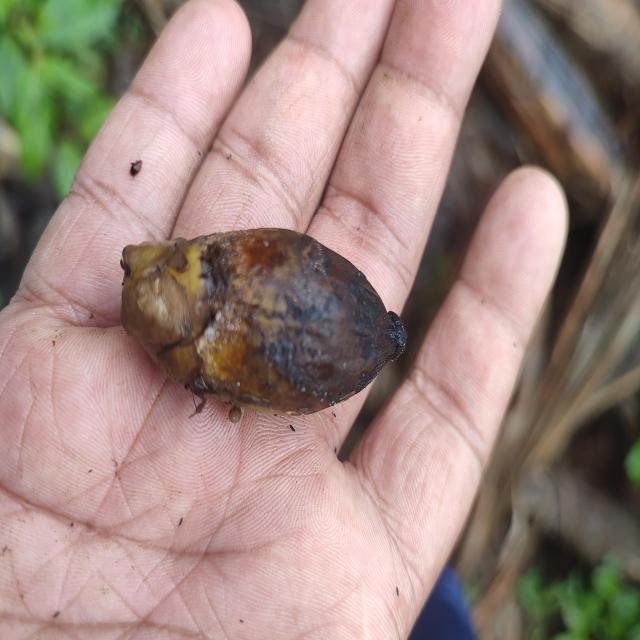damaged: (121, 228, 407, 415)
